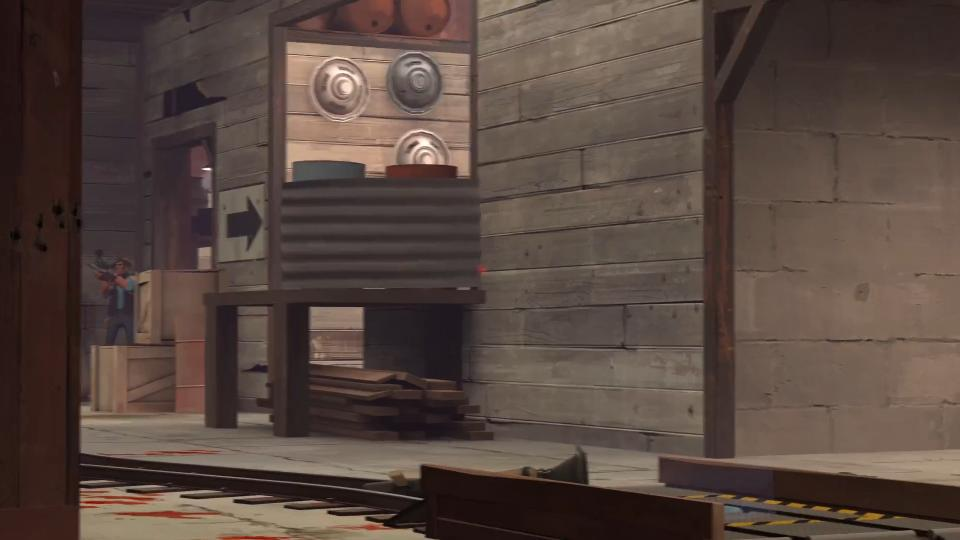Enemy: (83, 249, 139, 349)
